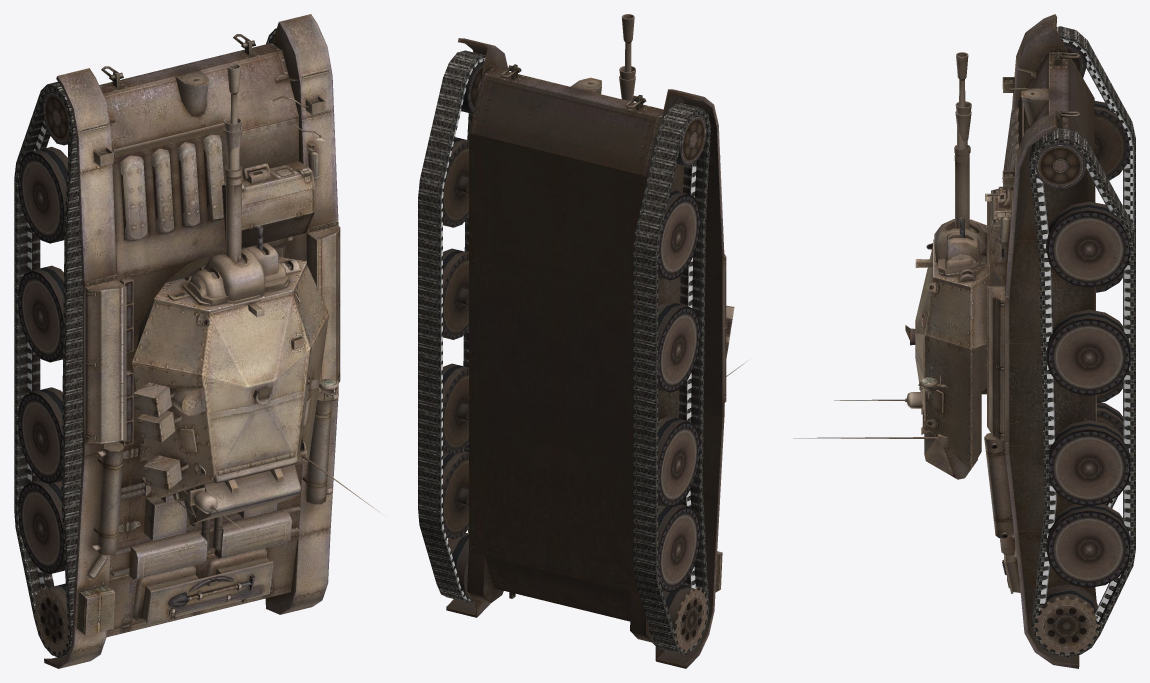
3 views of the same model, side by side, from view 1: azimuth 30°, elevation 25°; view 2: azimuth 150°, elevation 25°; view 3: azimuth 270°, elevation 25° (orthographic). The views are drawn at different scales.
Parts seen in each view (by area): view 1: hull, turret_01, turret_02, chassis_track_L, chassis_wheel_L_02, chassis_wheel_L_03, chassis_wheel_L_04, chassis_wheel_L_05, chassis_wheel_L_06, gun_02, chassis_wheel_L_01, gun_05 (+1 smaller); view 2: hull, chassis_track_L, chassis_track_R, chassis_wheel_L_03, chassis_wheel_L_04, chassis_wheel_L_05, chassis_wheel_L_02, chassis_wheel_R_03, chassis_wheel_R_04, chassis_wheel_L_06, chassis_wheel_R_05, chassis_wheel_R_02 (+4 smaller); view 3: hull, chassis_track_R, turret_01, turret_02, chassis_wheel_R_03, chassis_wheel_R_04, chassis_wheel_R_05, chassis_wheel_R_02, chassis_wheel_R_06, chassis_track_L, chassis_wheel_L_02, chassis_wheel_R_01 (+3 smaller).
Part boxes in pixels (x1,y1,x2,y2): hull: (44,14,340,668); turret_01: (132,254,328,537); turret_02: (133,243,381,523); chassis_track_L: (14,81,82,657); chassis_wheel_L_02: (18,146,68,243); chassis_wheel_L_03: (18,265,63,362); chassis_wheel_L_04: (18,387,62,483); chassis_wheel_L_05: (18,480,64,573); chassis_wheel_L_06: (34,583,69,655); gun_02: (224,117,242,262); chassis_wheel_L_01: (42,90,69,145); gun_05: (224,127,265,264); hull: (446,38,726,668); chassis_track_L: (633,103,710,654); chassis_track_R: (418,50,485,602); chassis_wheel_L_03: (658,301,700,392); chassis_wheel_L_04: (658,416,699,507); chassis_wheel_L_05: (658,504,700,592); chassis_wheel_L_02: (658,189,700,280); chassis_wheel_R_03: (443,248,468,339); chassis_wheel_R_04: (443,363,468,454); chassis_wheel_L_06: (647,585,708,652); chassis_wheel_R_05: (443,451,468,539); chassis_wheel_R_02: (443,137,468,227); hull: (984,14,1099,668); chassis_track_R: (1029,127,1135,657); turret_01: (834,219,1004,470); turret_02: (793,219,989,479); chassis_wheel_R_03: (1046,309,1130,395); chassis_wheel_R_04: (1049,420,1130,506); chassis_wheel_R_05: (1046,504,1130,587); chassis_wheel_R_02: (1046,201,1130,287); chassis_wheel_R_06: (1034,583,1099,655); chassis_track_L: (1056,26,1135,508); chassis_wheel_L_02: (1094,101,1130,180); chassis_wheel_R_01: (1034,142,1086,189).
Size of the model in its own units: 2.59 by 5.97 by 3.45.
2 materials, 2 textured.
